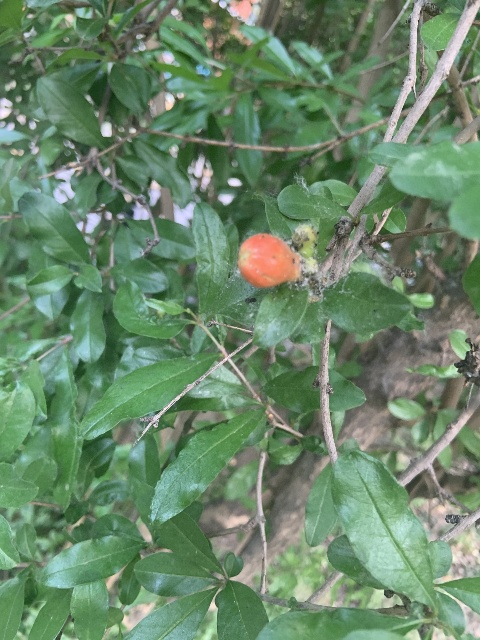bud: (237, 233, 300, 288)
